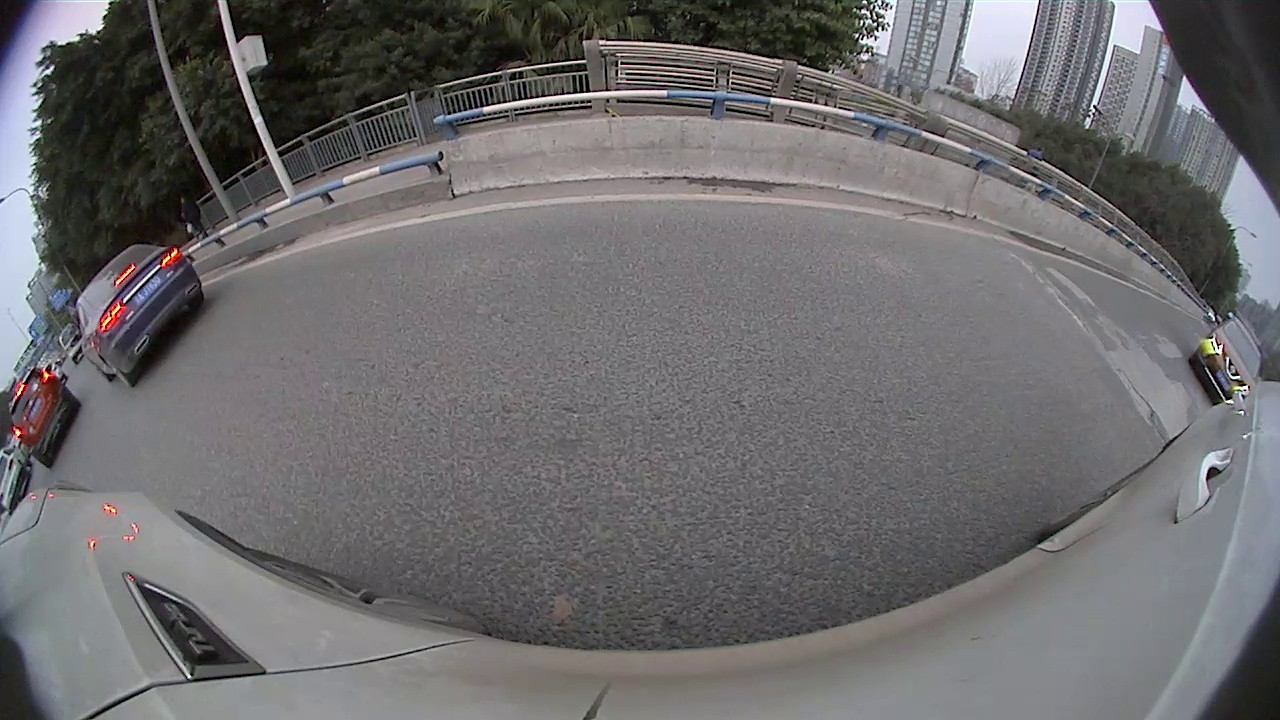car: (70, 242, 206, 389), (3, 365, 85, 469), (1187, 315, 1267, 405), (1, 444, 36, 519), (54, 321, 85, 363)
person: (178, 192, 210, 243), (1031, 139, 1047, 179)
rear: (102, 354, 138, 389), (181, 287, 208, 315)
